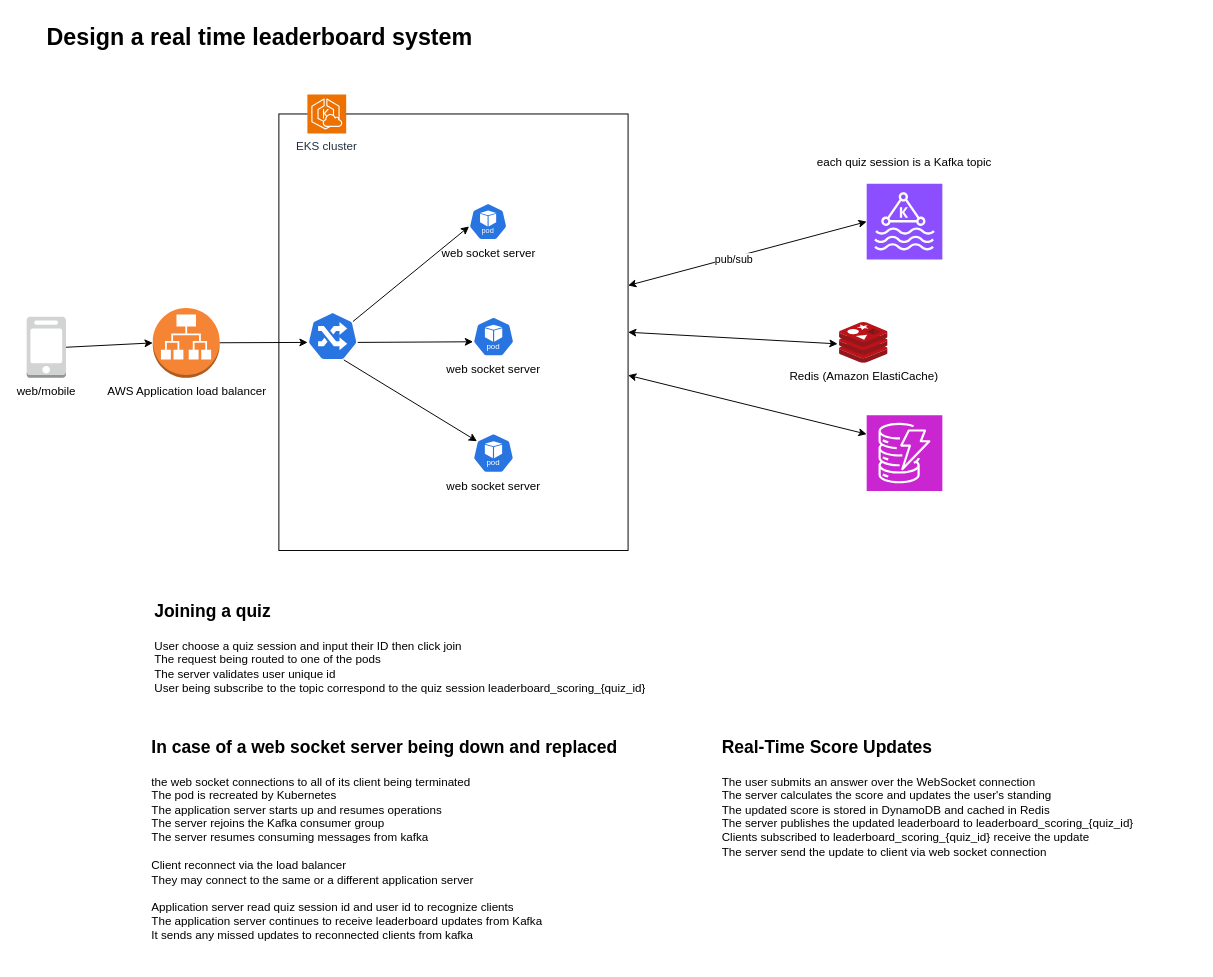
Some shapes in this 1213 by 977 pixel diagram are drawn without their labels. The shapes that lost their labels are listed below. From the top down, each one's centre as x and y in pixels, then its label:
(904,221): Kafka (Amazon Managed Streaming for Apache Kafka)
(332,335): ingress
(904,452): Amazon DynamoDB
